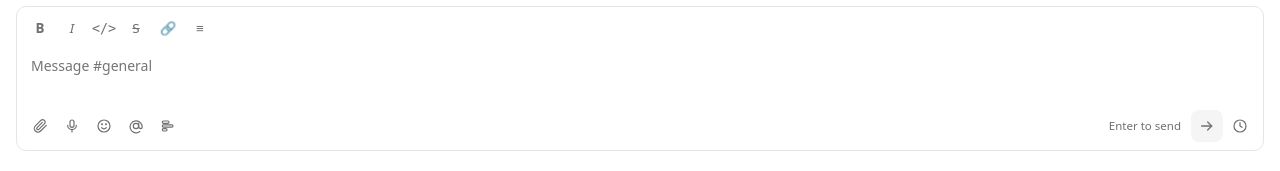
the composer formatting toolbar › offers italic, code and strikethrough the same way
Type "x" into the text box with placeholder "Message #general" at (640, 73), box [17,43,1263,104]
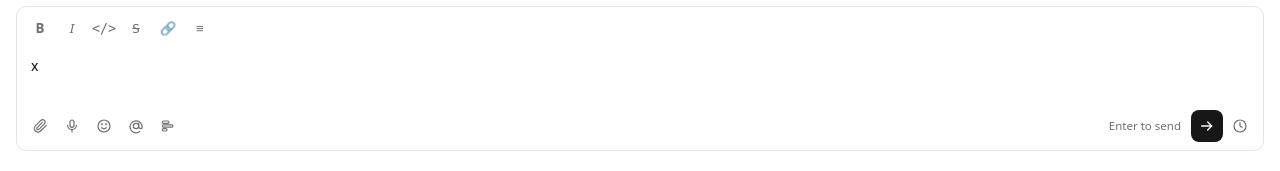
Click the button named "Italic" at (72, 28), box [57,13,87,43]
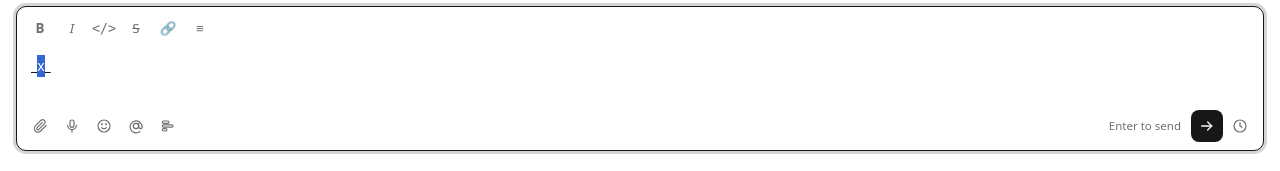
Check: the text box with placeholder "Message #general" holds "_x_", box [17,43,1263,104]
